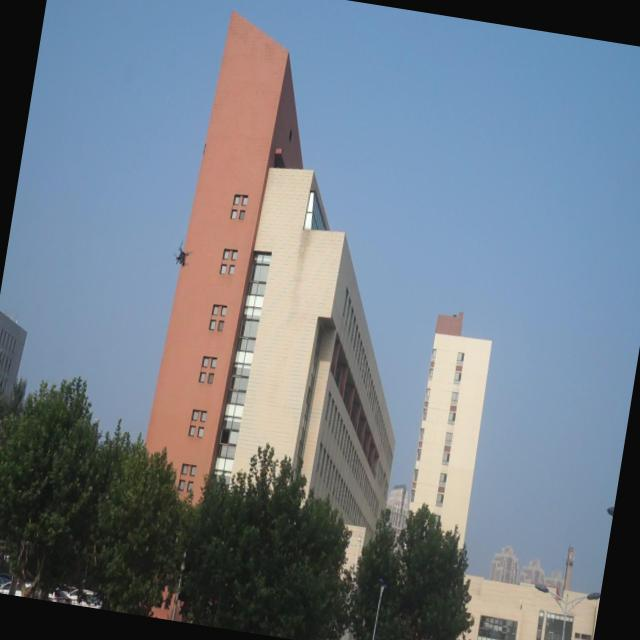drone: (168, 240, 196, 273)
